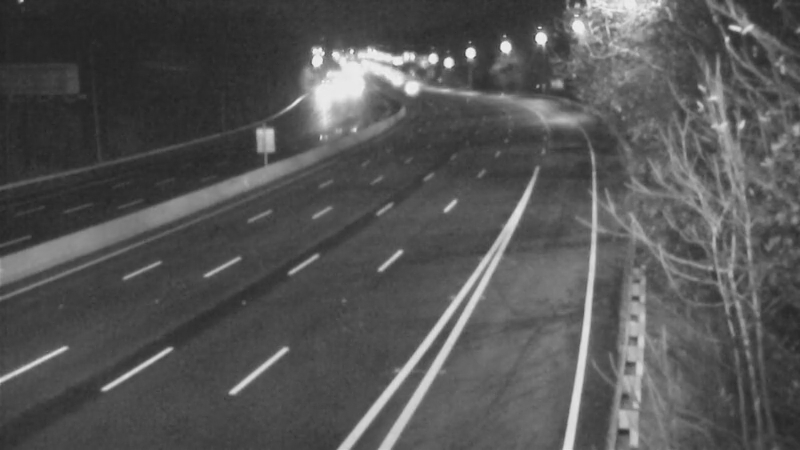vehicle: (384, 62, 434, 112)
